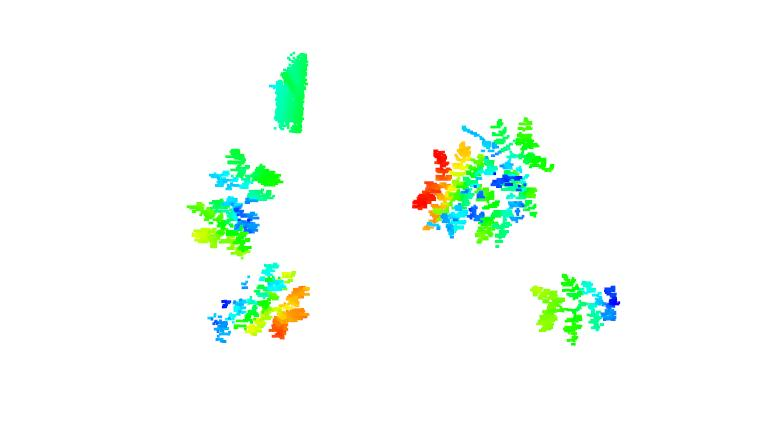chickpea: (182, 146, 289, 254), (408, 112, 489, 231), (494, 115, 559, 252), (207, 262, 315, 344), (529, 271, 627, 346)
